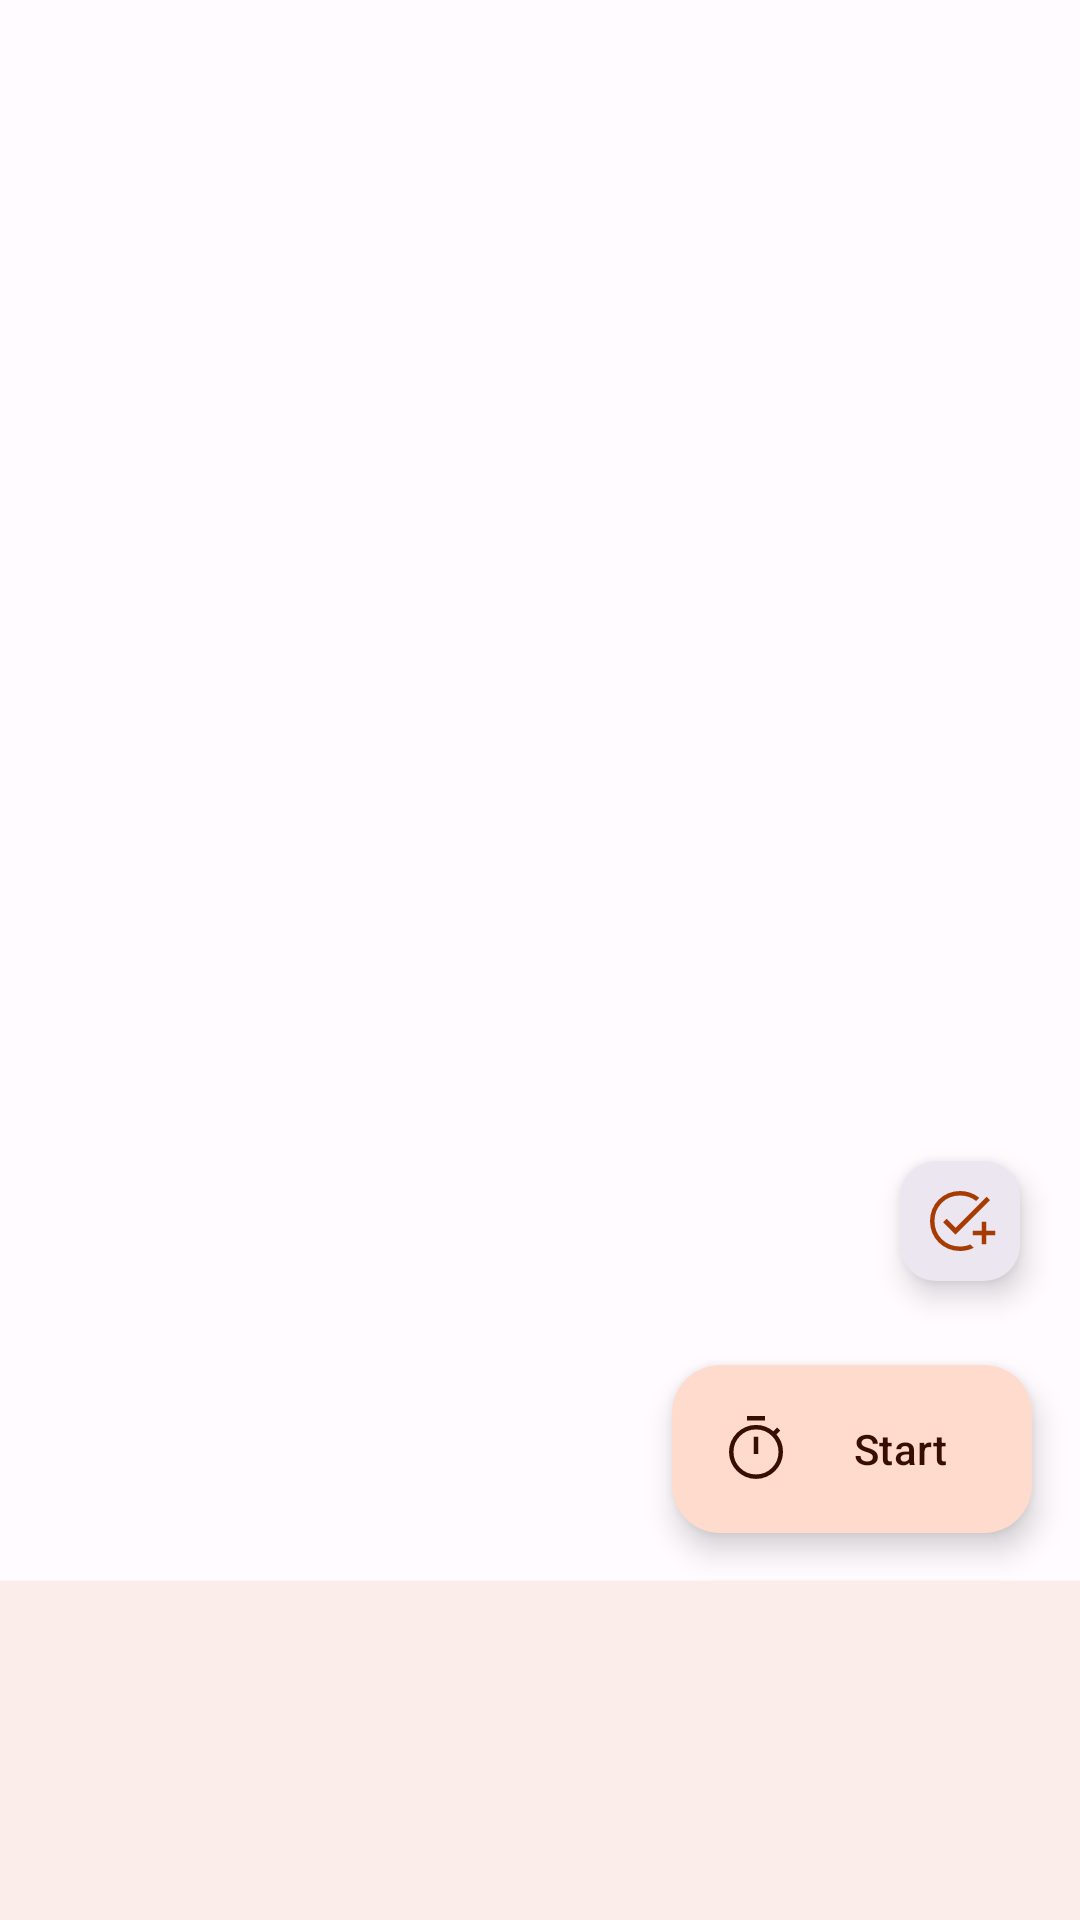

Point at icon controls on the screen. Image size 1080px x 1920px, points as point (x, y).
Create a new task: point (963, 1226)
